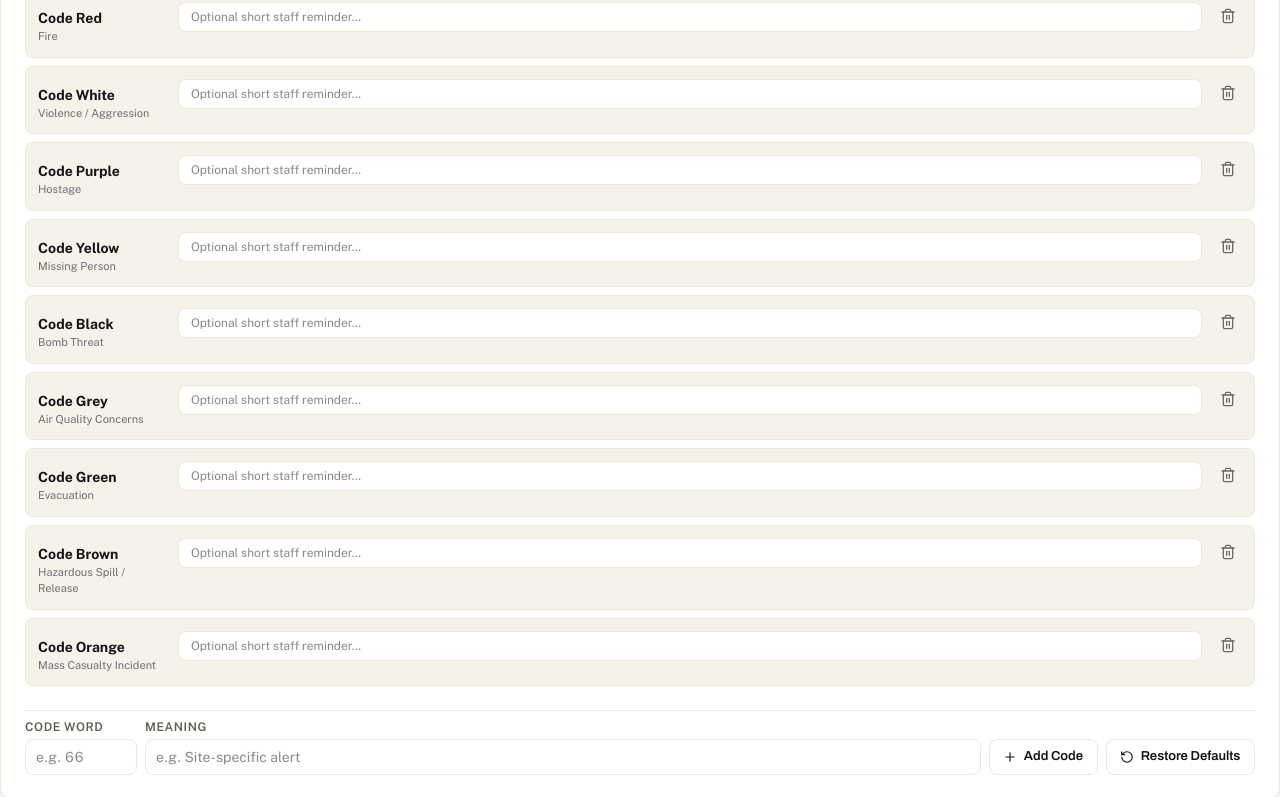
Scenario: EmergencyCodesTab › adds a facility-specific code and lets it be removed
This screenshot has width=1280, height=797.
(page scrolled)
Step 1. Type "99" into the field with placeholder "e.g. 66" → (81, 757), box [25,739,137,775]
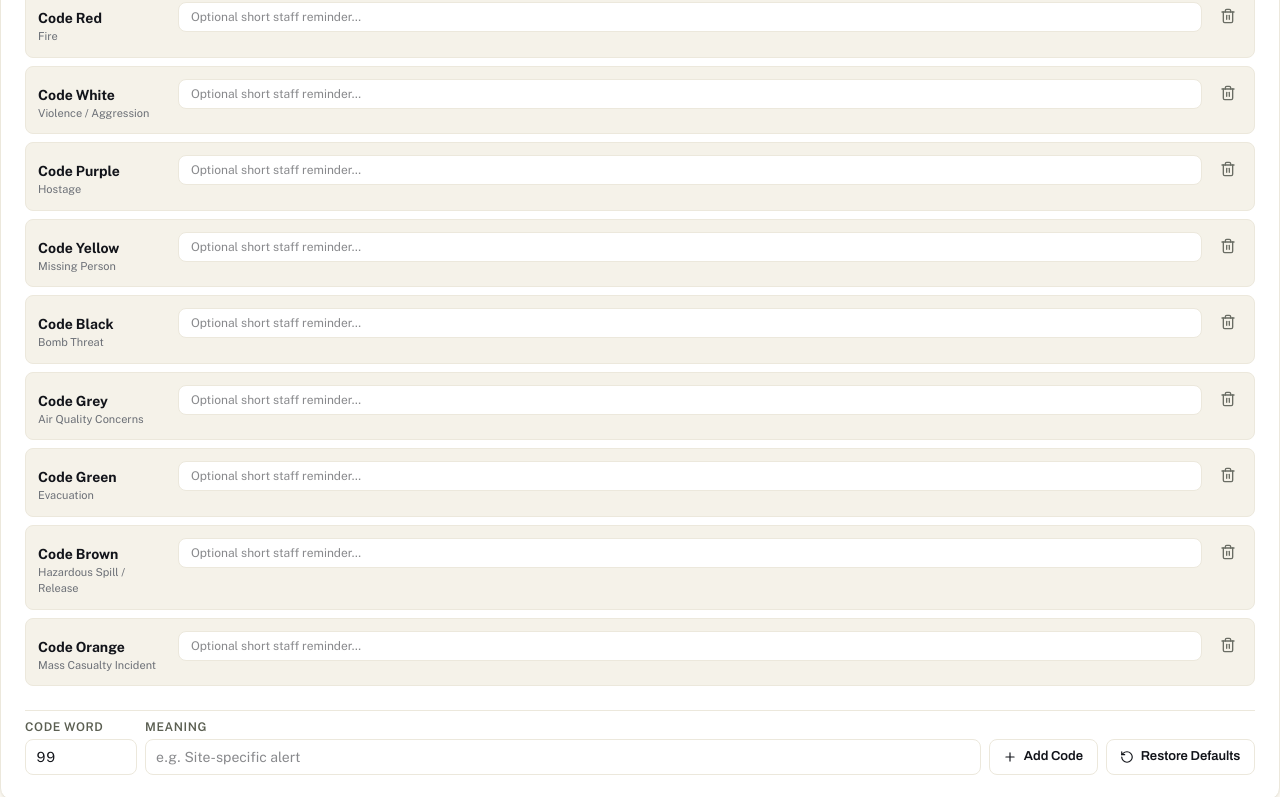
Step 2. Type "Elevator Entrapment" into the field with placeholder "e.g. Site-specific alert" → (563, 757), box [145,739,981,775]
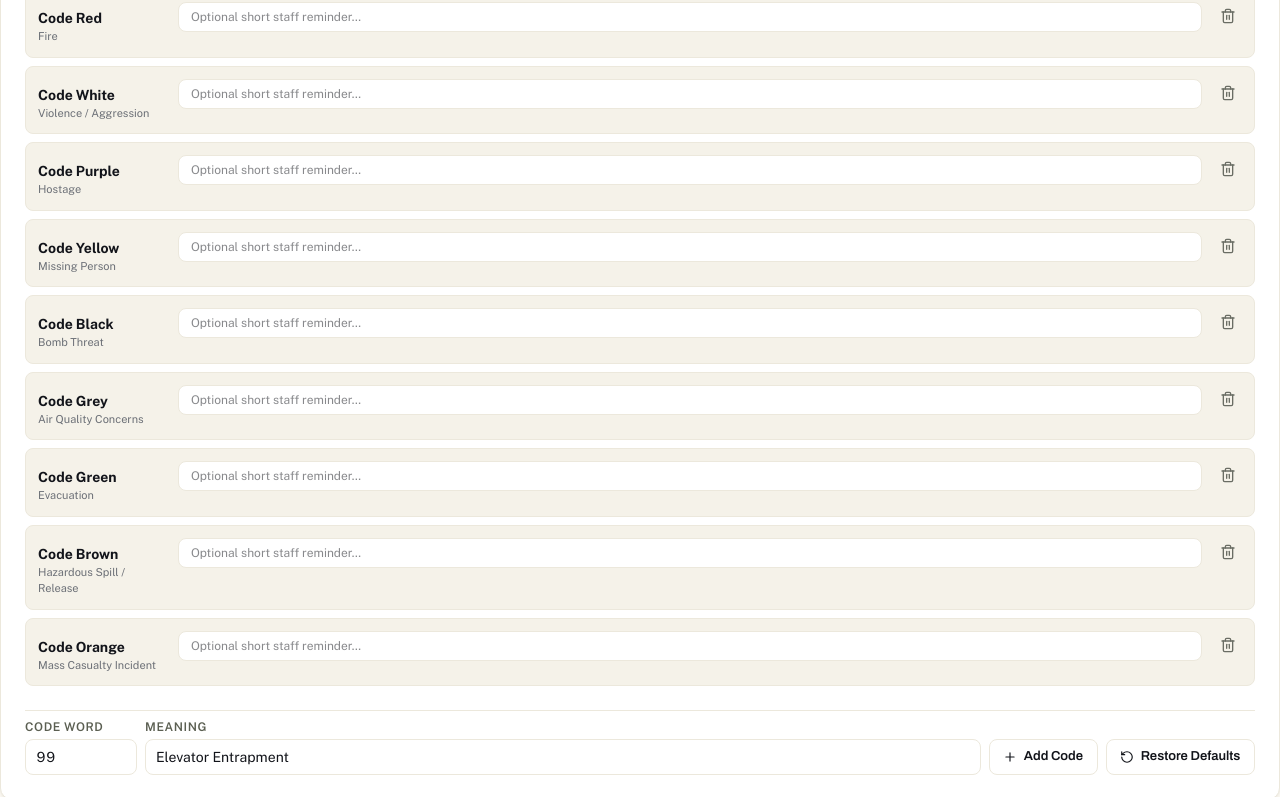
Step 3. Click the button "Add Code" → click(1043, 757), box [989,739,1098,775]
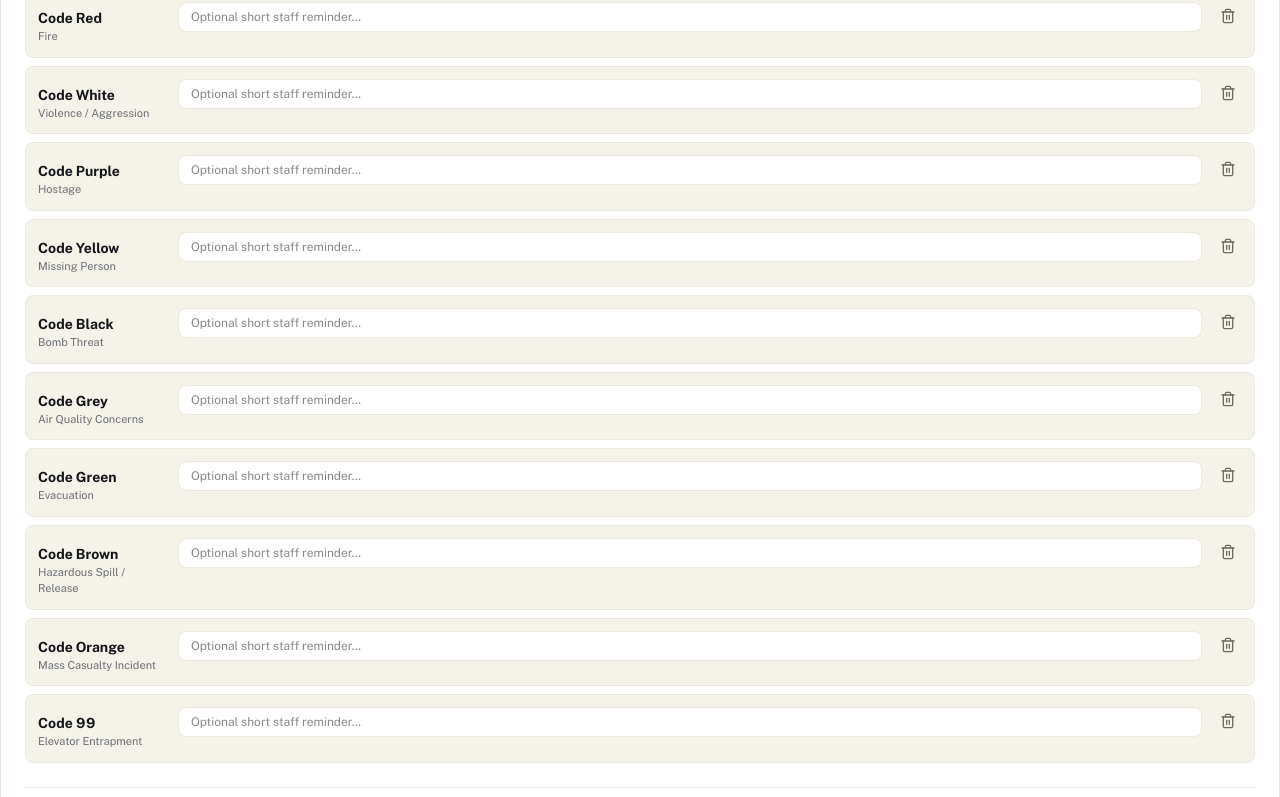
Expected: the text "Code 99" is shown, [38,715,96,731]
